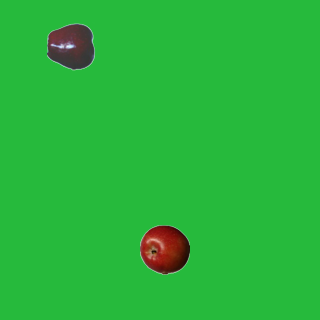Apple Braeburn: (139, 224, 189, 274)
Apple Red Delicious: (46, 21, 96, 71)
